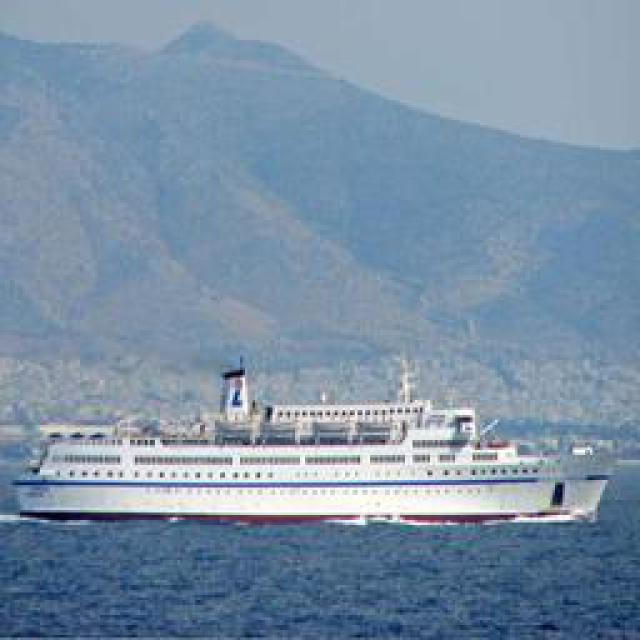Ship: (16, 377, 624, 525)
